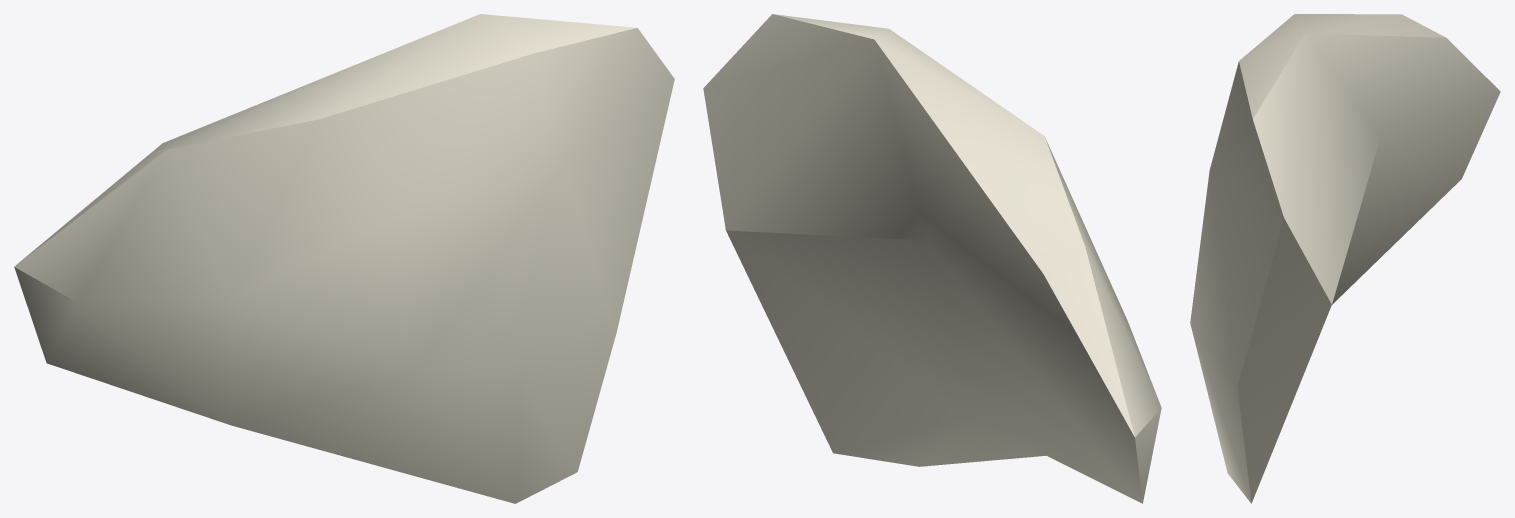
The model's file is fma323747-r_mm2010.glb.
3 views of the same model, side by side, from view 1: azimuth 30°, elevation 25°; view 2: azimuth 150°, elevation 25°; view 3: azimuth 270°, elevation 25° (orthographic). The views are drawn at different scales.
Visible parts, largest first — view 1: FMA323747-R_MM2010; view 2: FMA323747-R_MM2010; view 3: FMA323747-R_MM2010.
Boxes of the visible parts, x1=… form: FMA323747-R_MM2010: x1=14, y1=14, x2=674, y2=503; FMA323747-R_MM2010: x1=703, y1=14, x2=1161, y2=503; FMA323747-R_MM2010: x1=1190, y1=14, x2=1500, y2=503.
Bounding box in the file's own units: 0.00618 × 0.00495 × 0.00315.
